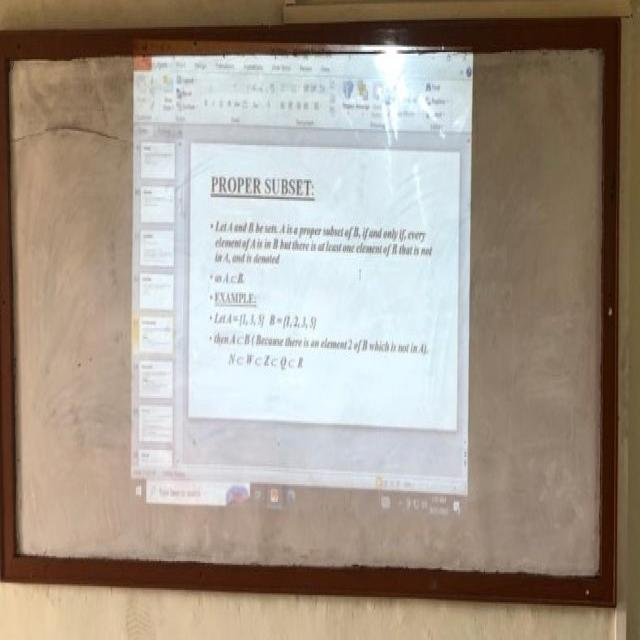Slide: (130, 30, 473, 533)
White-board: (0, 33, 616, 597)
